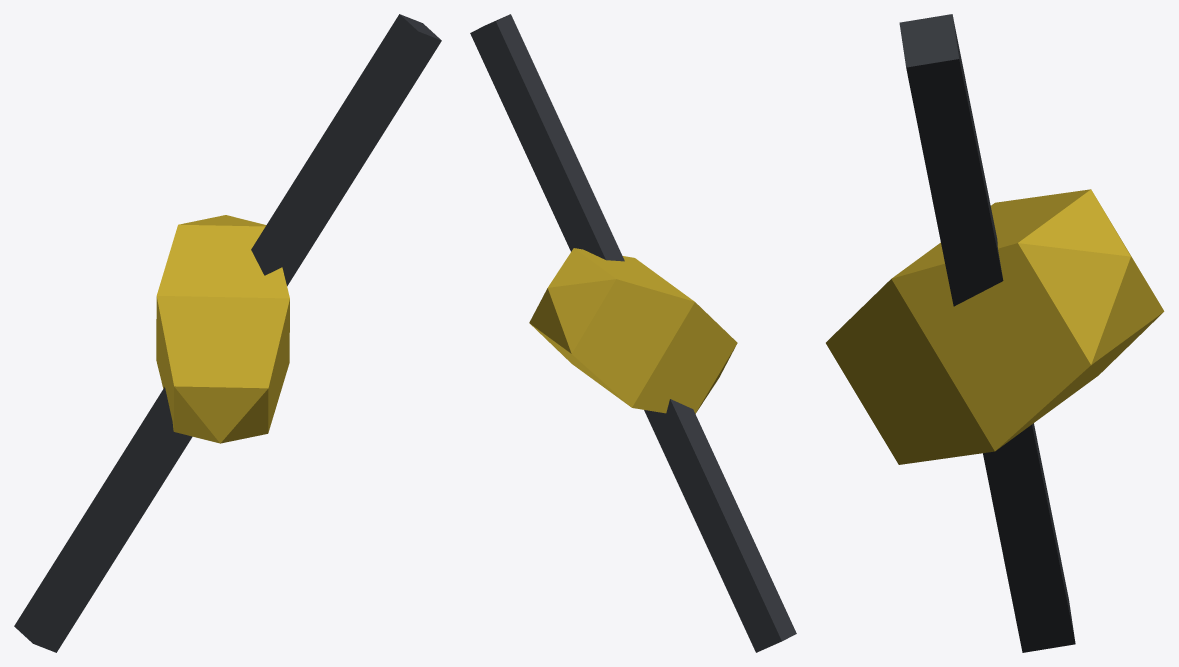
File: SM_Prop_Cocktail_Mixer_01.obj
3 views of the same model, side by side, from view 1: azimuth 30°, elevation 25°; view 2: azimuth 150°, elevation 25°; view 3: azimuth 270°, elevation 25° (orthographic). The views are drawn at different scales.
Parts seen in each view (by area): view 1: SM_Prop_Cocktail_Mixer_01_0; view 2: SM_Prop_Cocktail_Mixer_01_0; view 3: SM_Prop_Cocktail_Mixer_01_0.
Boxes of the visible parts, x1,y1,x2,y2 form: SM_Prop_Cocktail_Mixer_01_0: [14, 14, 441, 652]; SM_Prop_Cocktail_Mixer_01_0: [470, 14, 796, 652]; SM_Prop_Cocktail_Mixer_01_0: [826, 14, 1164, 652].
Size of the model in its own units: 0.094 by 0.1387 by 0.0487.
Materials: 1 (1 with a texture image).
